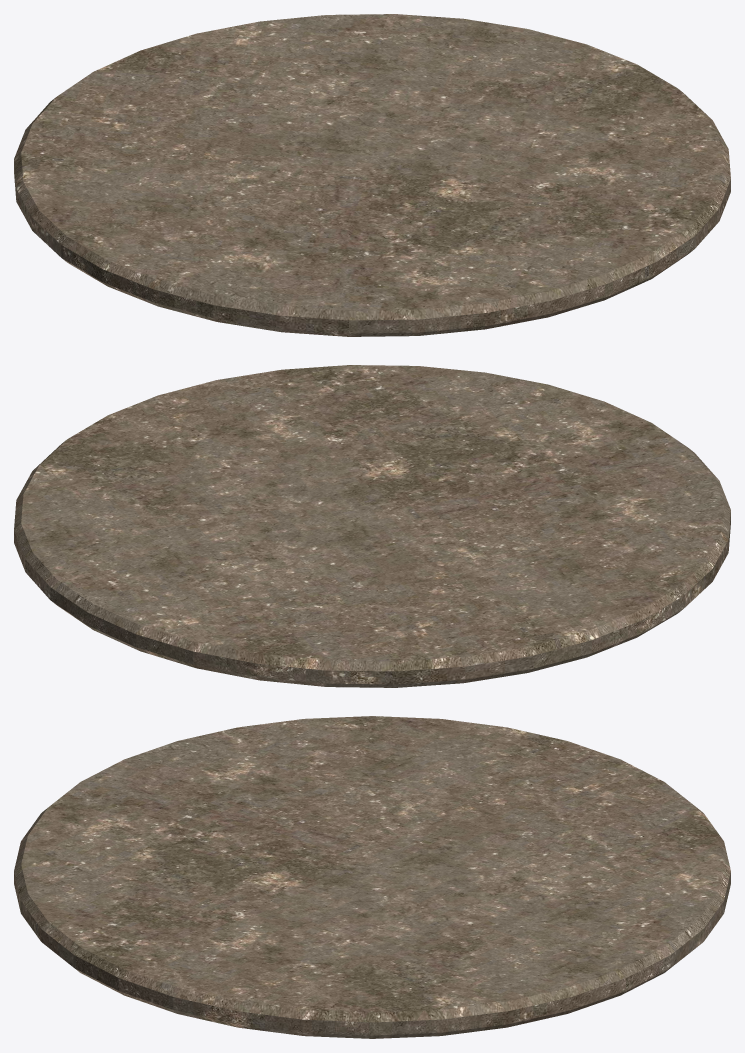
Rendered from mdl_franch_Snake_Spacer.gltf.
The picture shows the model from 3 angles, top to bottom: view 1: azimuth 30°, elevation 25°; view 2: azimuth 150°, elevation 25°; view 3: azimuth 270°, elevation 25°; orthographic projection.
Visible parts, largest first — view 1: Cylinder.002; view 2: Cylinder.002; view 3: Cylinder.002.
Boxes of the visible parts, <box> form: Cylinder.002: <box>14,14,730,336</box>; Cylinder.002: <box>14,365,730,687</box>; Cylinder.002: <box>14,716,730,1038</box>.
Bounding box in the file's own units: 0.8001 × 0.032 × 0.8001.
Materials: 1 (1 with a texture image).
